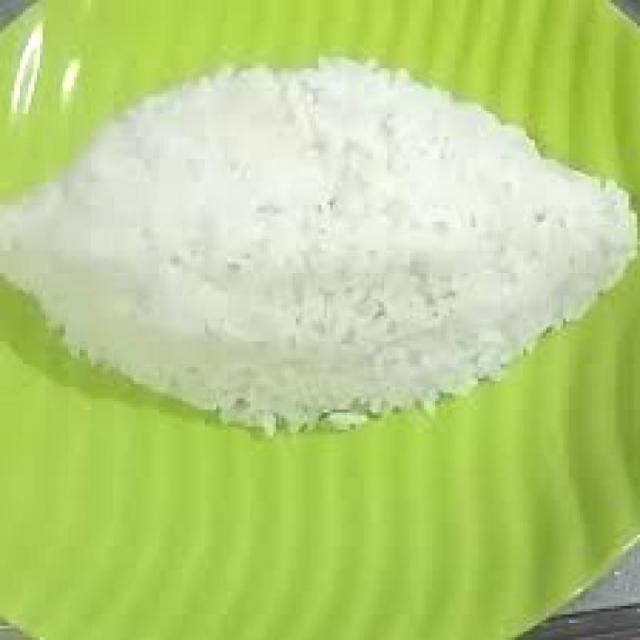Chicken -Chicken Inasal-: (0, 59, 634, 423)
